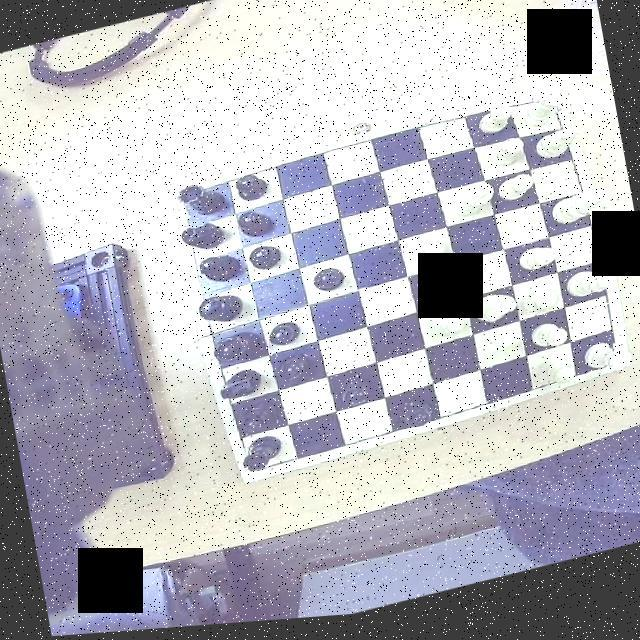chess-table-corners: (172, 184, 208, 223), (238, 446, 272, 484), (594, 350, 626, 384), (532, 95, 564, 126)
